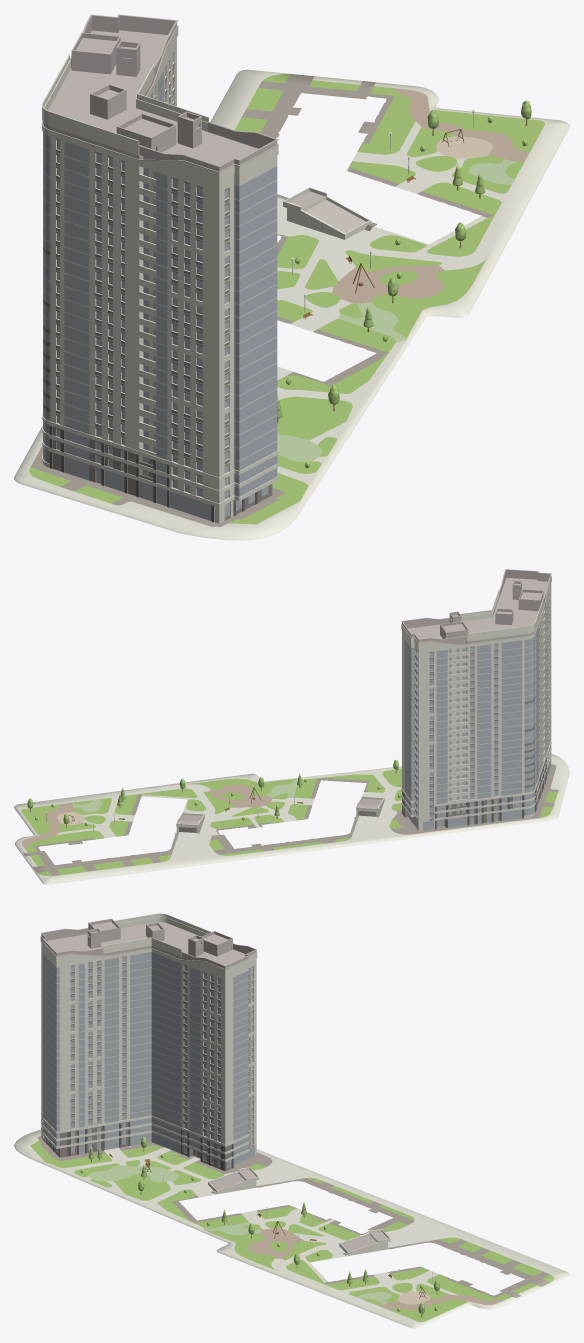
The model's file is SakuraPark3UV_1.glb.
3 views of the same model, one above another, from view 1: azimuth 30°, elevation 25°; view 2: azimuth 150°, elevation 25°; view 3: azimuth 270°, elevation 25° (orthographic). The views are drawn at different scales.
Visible parts, largest first — view 1: BUILDING_1.006, ground_0.002; view 2: BUILDING_1.006, ground_0.002; view 3: BUILDING_1.006, ground_0.002.
Part boxes in pixels (x1,y1,x2,y2): BUILDING_1.006: (41, 14, 278, 523); ground_0.002: (14, 69, 569, 540); BUILDING_1.006: (401, 569, 551, 831); ground_0.002: (14, 753, 569, 884); BUILDING_1.006: (40, 913, 257, 1171); ground_0.002: (14, 1129, 569, 1328).
Size of the model in its own units: 188 by 85.48 by 202.
Materials: 2 (2 with a texture image).
